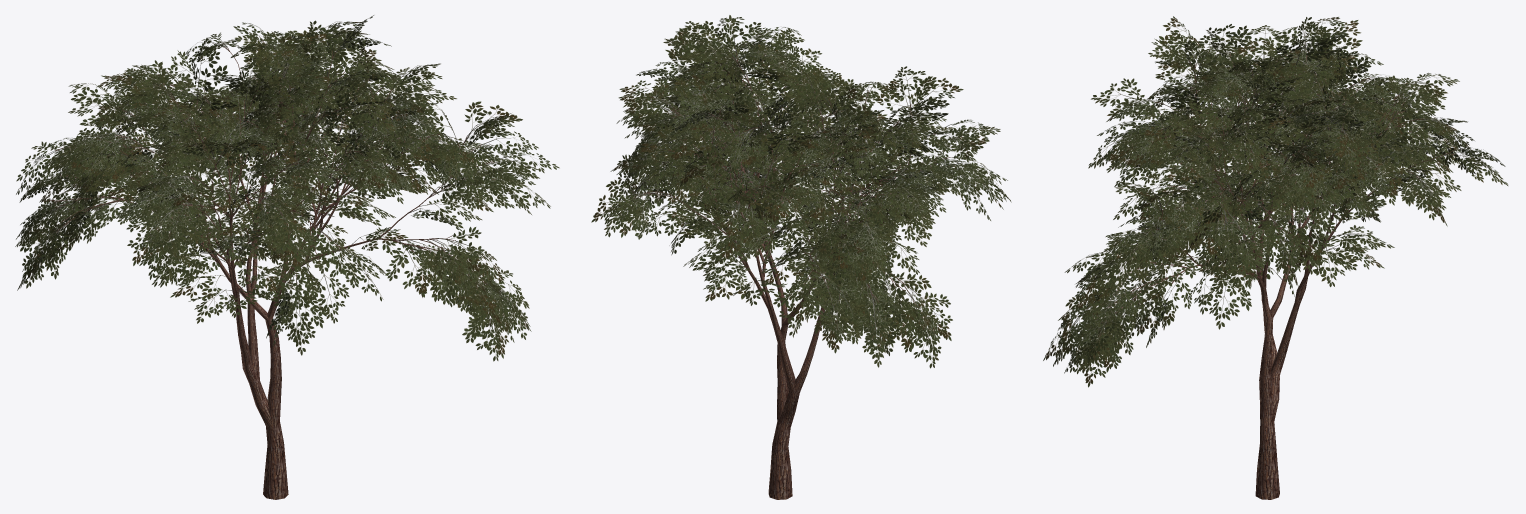
The model's file is tree1.glb.
The picture shows the model from 3 angles, left to right: view 1: azimuth 30°, elevation 25°; view 2: azimuth 150°, elevation 25°; view 3: azimuth 270°, elevation 25°; orthographic projection. The views are drawn at different scales.
Parts seen in each view (by area): view 1: Tree; view 2: Tree; view 3: Tree.
Part boxes in pixels (x1,y1,x2,y2): Tree: (15, 15, 559, 499); Tree: (591, 15, 1011, 499); Tree: (1043, 16, 1508, 499).
Bounding box in the file's own units: 3.63 × 3.82 × 3.55.
2 materials, 2 textured.
